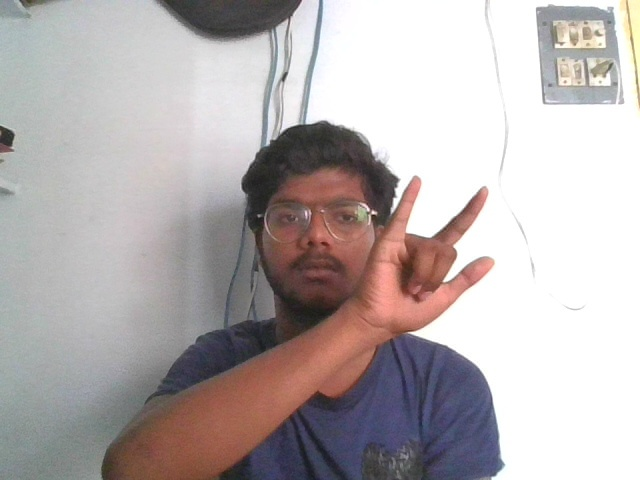IloveYou: (354, 169, 500, 344)
